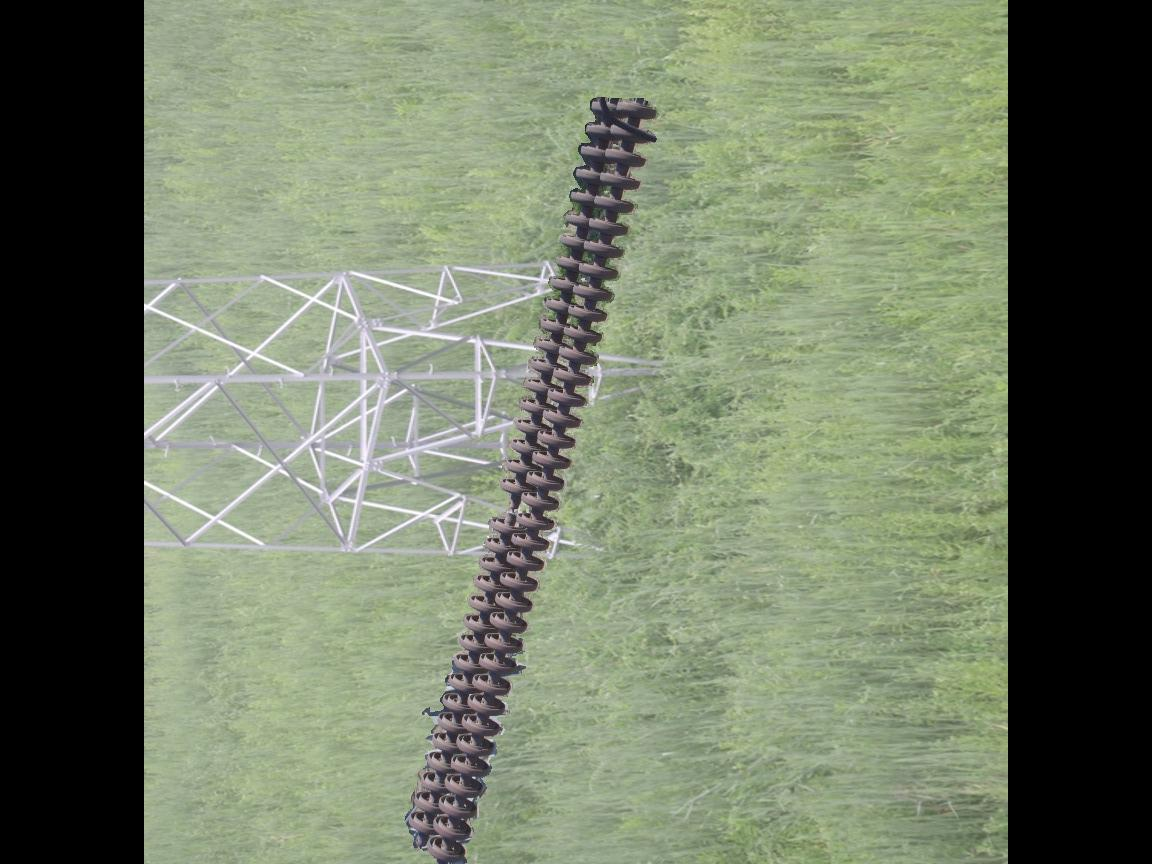insulator: (400, 90, 662, 864)
insulator_stringdrop: (484, 476, 536, 537)
